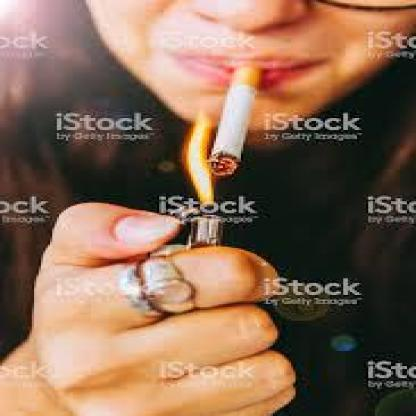fire: (173, 108, 228, 226)
